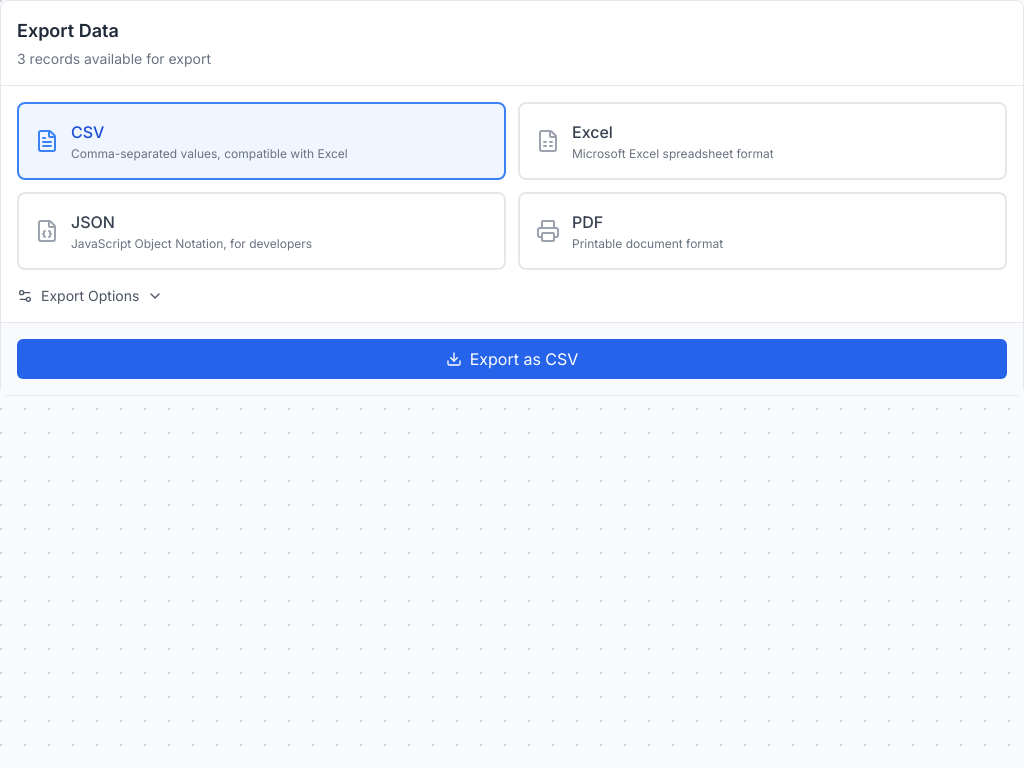
Test case: ExportPanel › Panel Variant › should toggle export options
Click the button "Export Options". click: (90, 296)
box: x1=17 y1=286 x2=163 y2=306
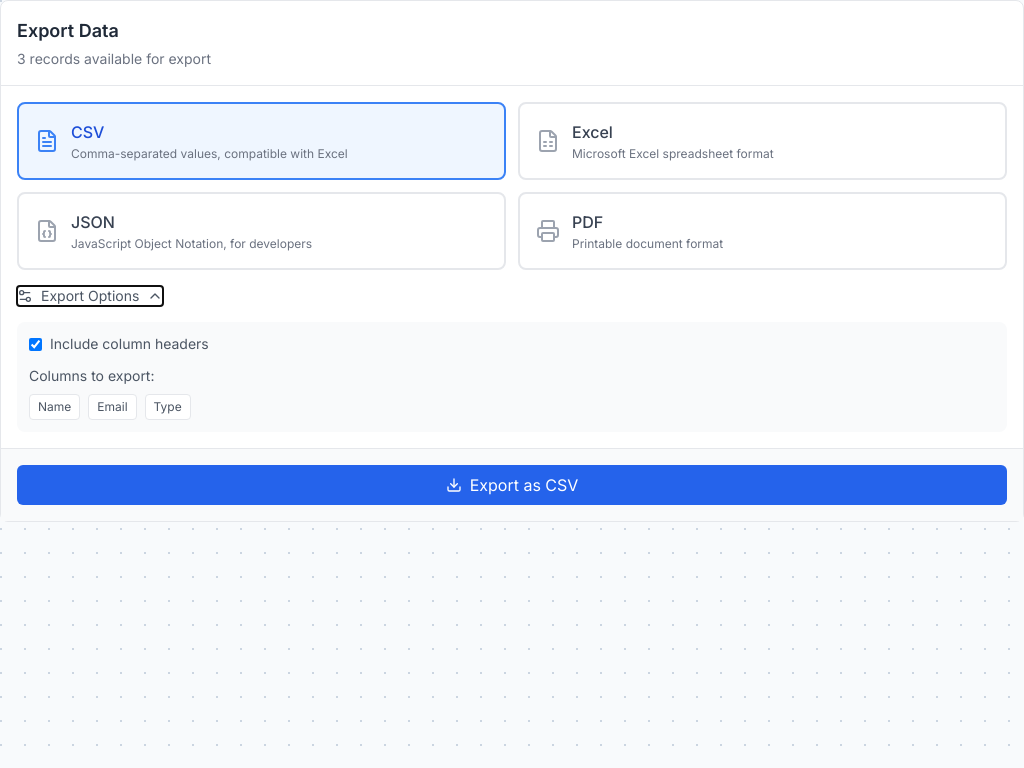
Expected: the text "Include column headers" is shown, x1=50 y1=334 x2=209 y2=354
Expected: the text "Columns to export:" is shown, x1=29 y1=367 x2=154 y2=384
